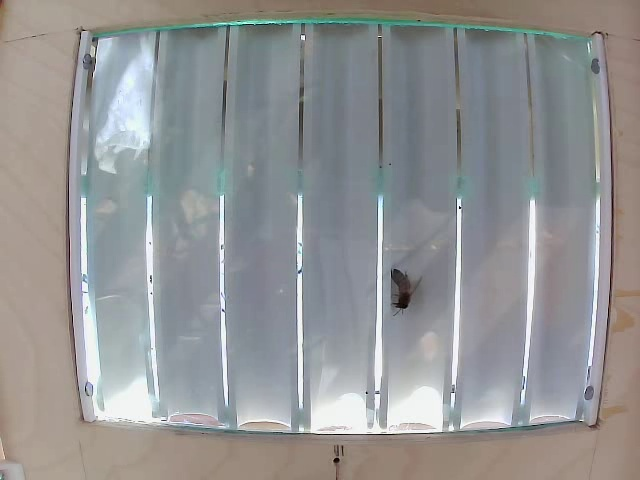bee: (387, 265, 417, 317)
